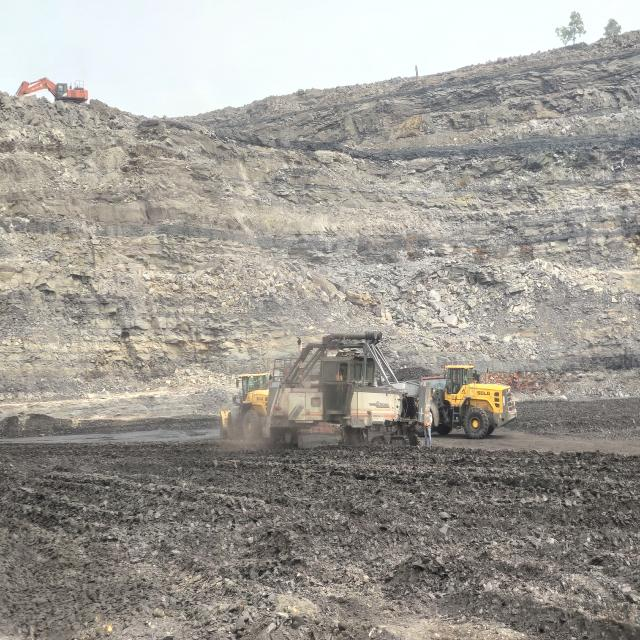excavator: (16, 78, 88, 103)
